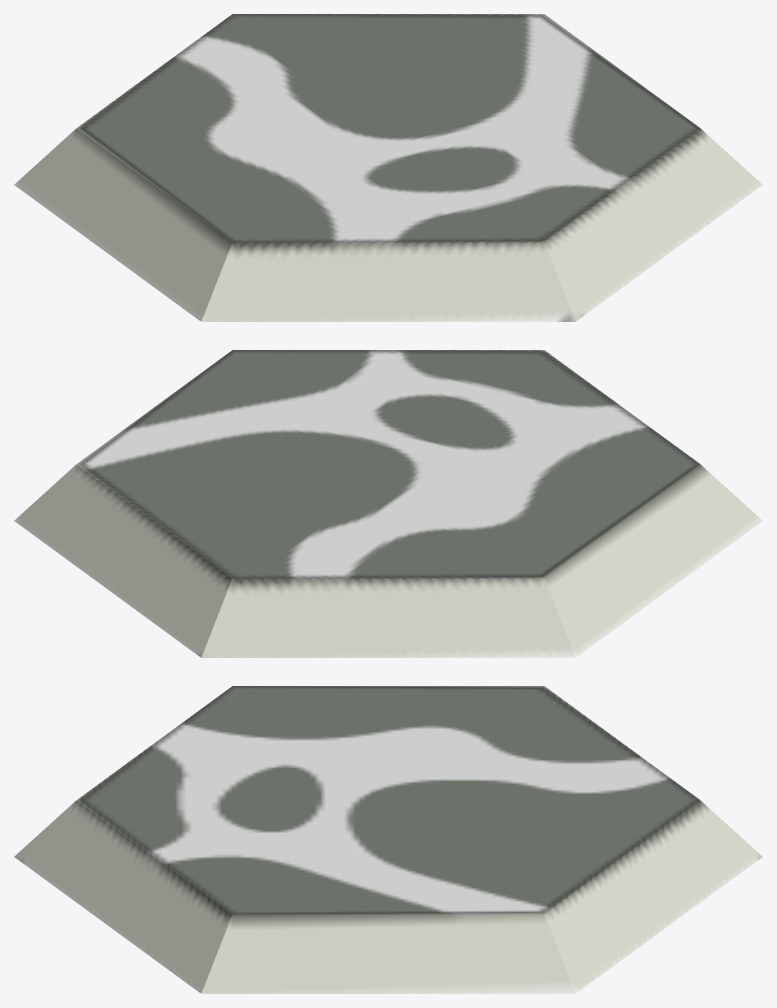
Rendered from Hex_Tundra_Shore.fbx.
3 renders of one model, top to bottom at view 1: azimuth 30°, elevation 25°; view 2: azimuth 150°, elevation 25°; view 3: azimuth 270°, elevation 25°, orthographic.
Visible parts, largest first — view 1: Hex_Tundra_Shore; view 2: Hex_Tundra_Shore; view 3: Hex_Tundra_Shore.
Part boxes in pixels (x1=…): Hex_Tundra_Shore: x1=14, y1=14, x2=762, y2=321; Hex_Tundra_Shore: x1=14, y1=350, x2=762, y2=657; Hex_Tundra_Shore: x1=14, y1=686, x2=762, y2=993.
Size of the model in its own units: 1039 by 100 by 1200.
Materials: 1 (1 with a texture image).
